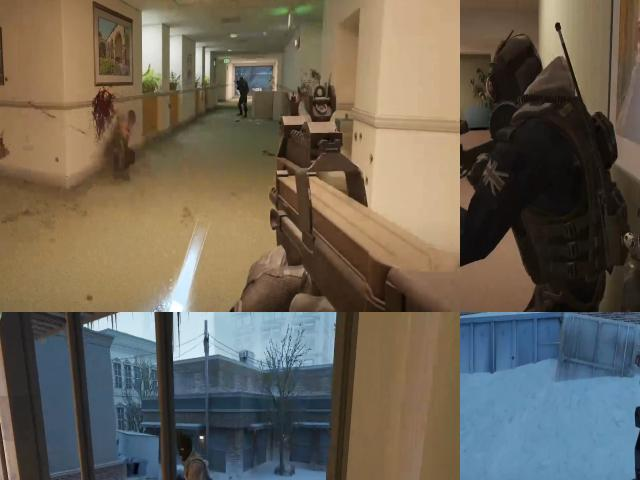CT: (481, 0, 608, 312), (237, 74, 251, 99)
CT-Head: (481, 26, 550, 140), (238, 75, 246, 85)
Dead: (100, 109, 143, 169)
T: (176, 427, 219, 480)
T-Head: (175, 432, 195, 460)
